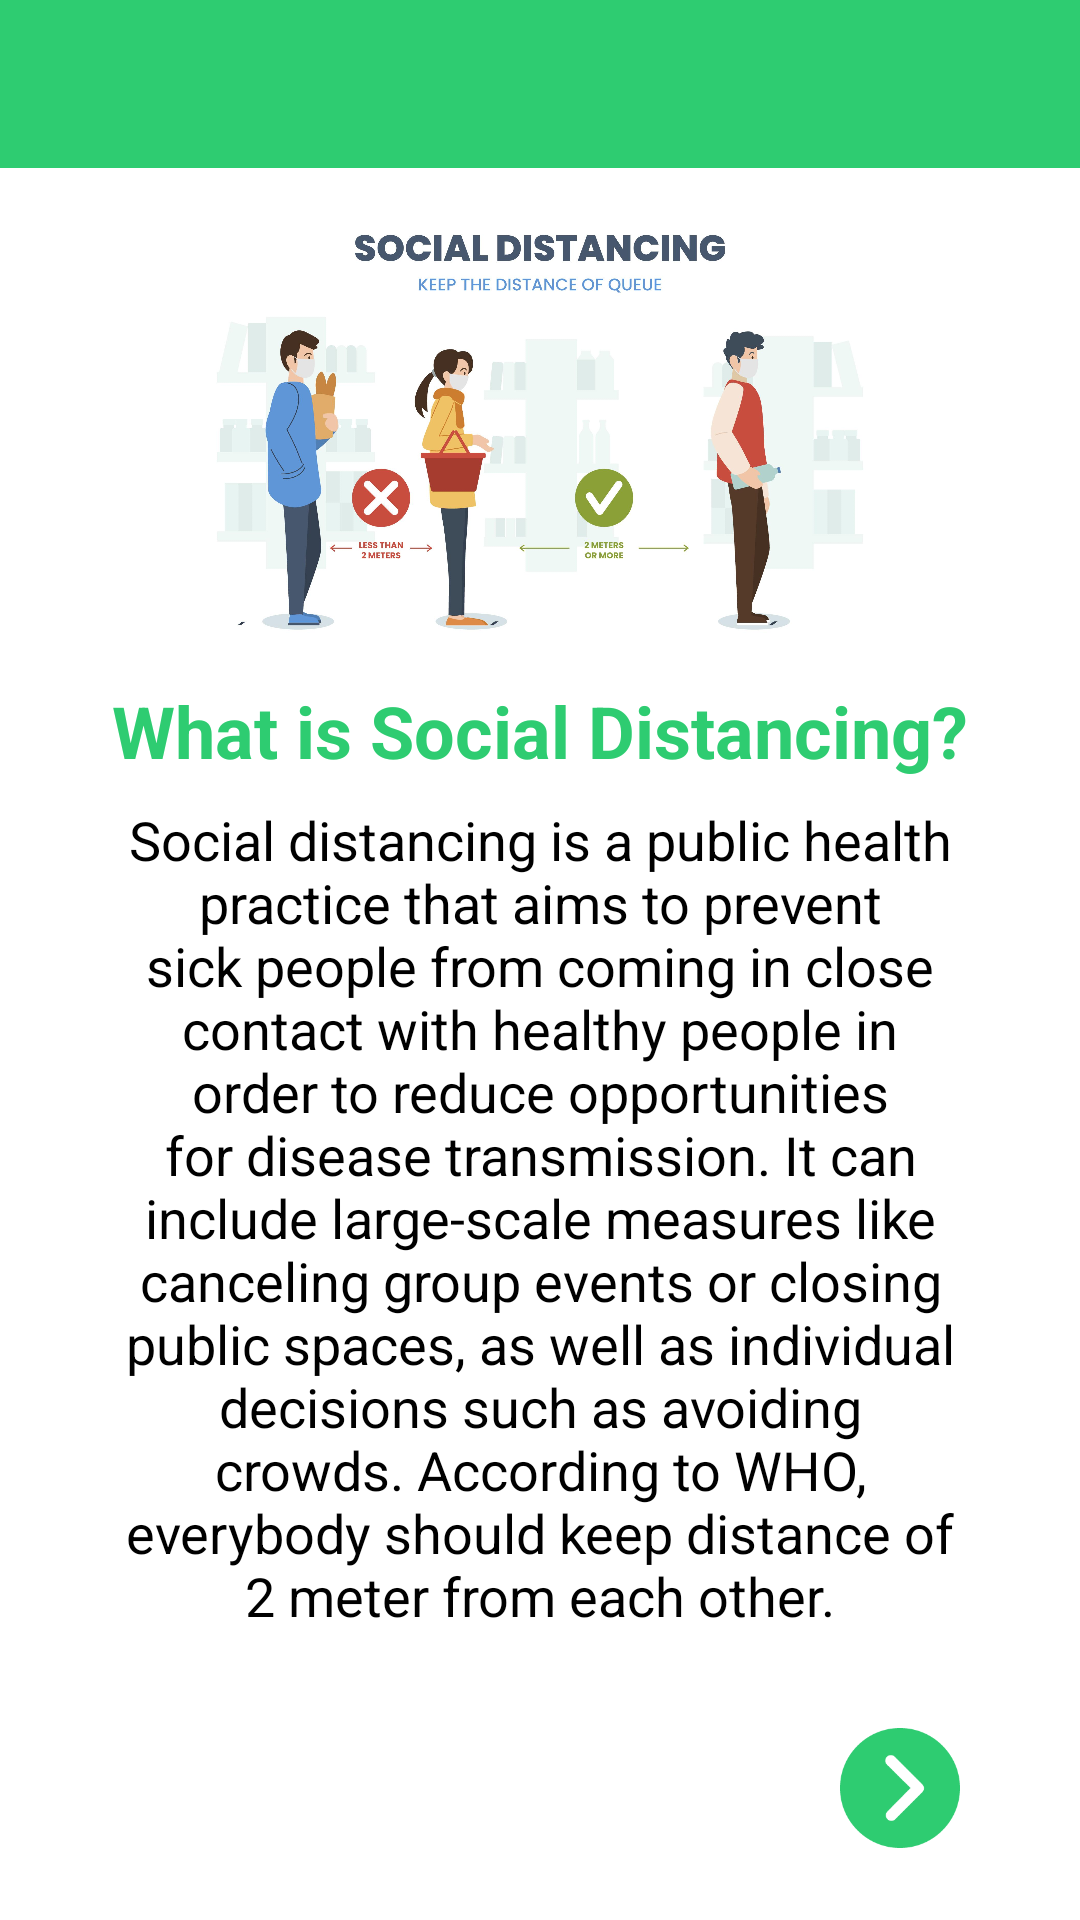

Icons on this 1080px×1920px Android screen, each with its box as {"x1": x1, "y1": y1, "x2": x2, "y2": y2}:
arrow circle right: {"x1": 840, "y1": 1728, "x2": 960, "y2": 1848}
